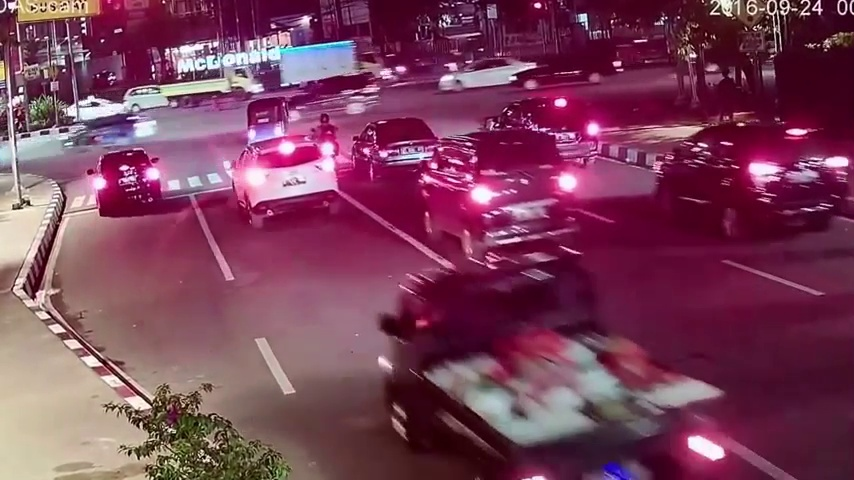car: (381, 267, 720, 480), (657, 118, 851, 245), (424, 131, 580, 264), (231, 136, 340, 228), (483, 95, 599, 176), (352, 119, 444, 183), (94, 148, 163, 220), (246, 99, 290, 151)
motorbike: (310, 114, 339, 171)
